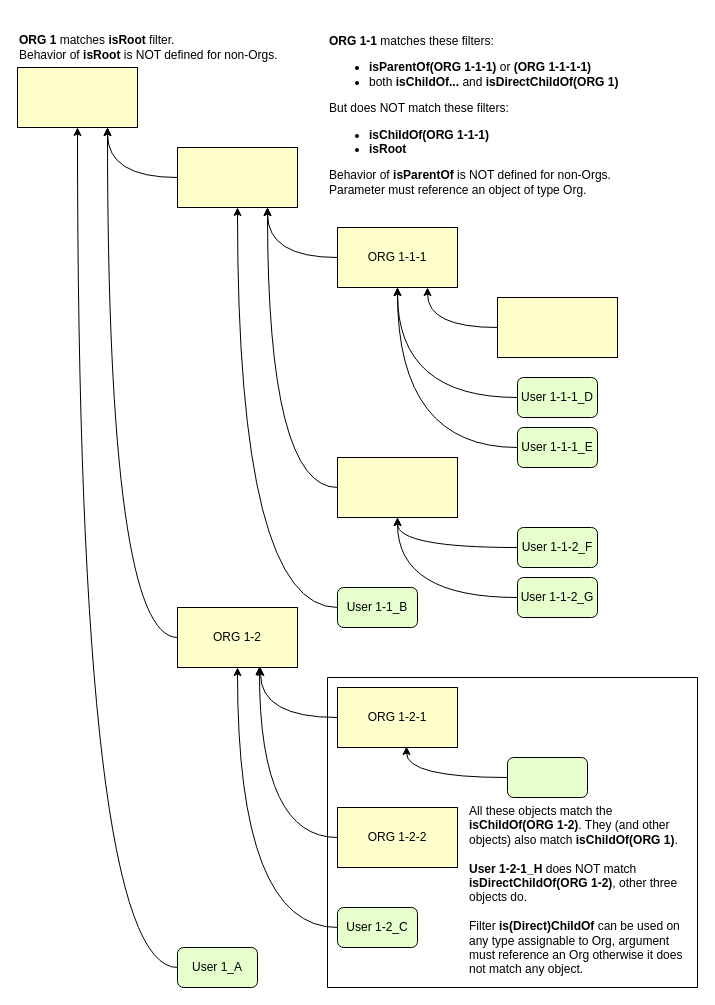
Some shapes in this 715 by 1005 pixel diagram are drawn without their labels. Here are the shapes that lost their labels. From the top down, the centre of each, then its label:
the point at 77,97: ORG 1
the point at 237,177: ORG 1-1
the point at 557,327: ORG 1-1-1-1
the point at 397,487: ORG 1-1-2
the point at 547,777: User 1-2-1_H
